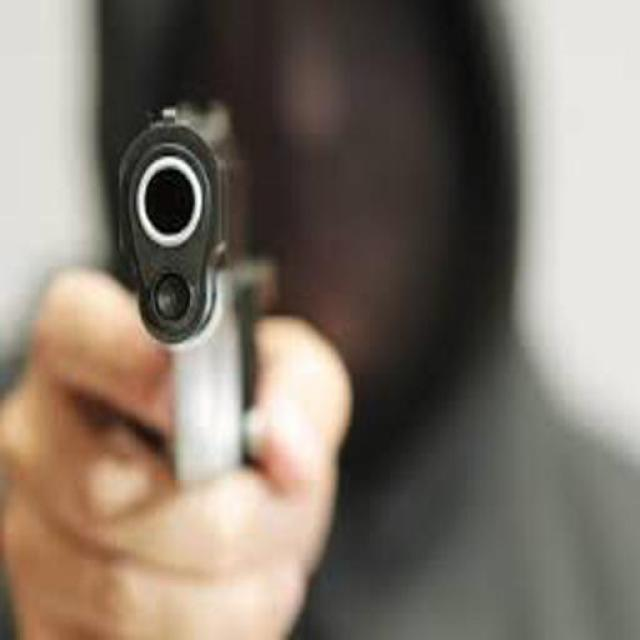pistol: (118, 90, 286, 492)
